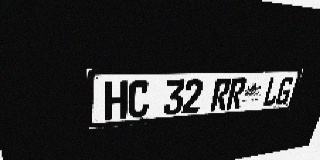2: (182, 79, 204, 114)
3: (163, 79, 186, 115)
C: (127, 80, 150, 118)
G: (274, 76, 295, 105)
H: (105, 81, 128, 120)
L: (262, 77, 283, 106)
R: (210, 78, 232, 111), (226, 78, 247, 110)
